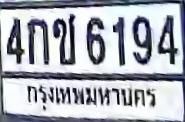1: (112, 16, 125, 66)
4: (157, 14, 178, 64), (6, 16, 24, 63)
6: (85, 16, 105, 64)
9: (132, 15, 152, 64)
A01: (26, 18, 48, 64)
A10: (52, 13, 75, 64)
BKK: (23, 81, 157, 112)
